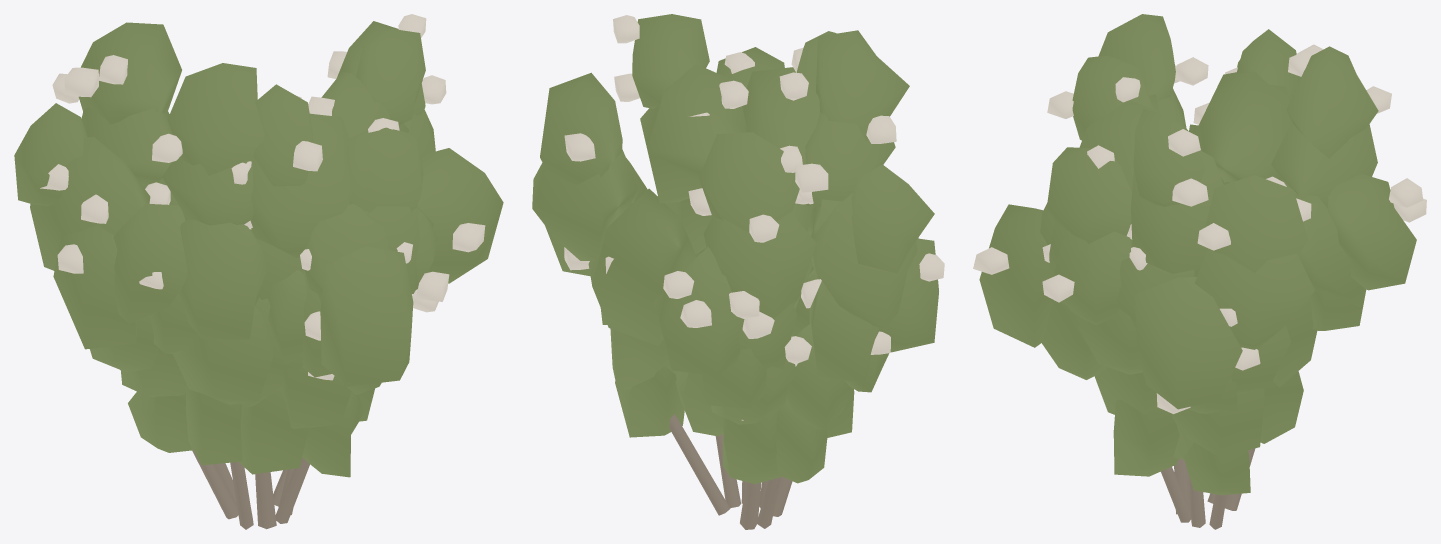
The model's file is Blender_Cliffrose_1.glb.
3 views of the same model, side by side, from view 1: azimuth 30°, elevation 25°; view 2: azimuth 150°, elevation 25°; view 3: azimuth 270°, elevation 25° (orthographic). The views are drawn at different scales.
Parts seen in each view (by area): view 1: Blender_Cliffrose_1; view 2: Blender_Cliffrose_1; view 3: Blender_Cliffrose_1.
Part boxes in pixels (left/top/right/bottom): Blender_Cliffrose_1: left=14, top=14, right=503, bottom=529; Blender_Cliffrose_1: left=532, top=14, right=944, bottom=529; Blender_Cliffrose_1: left=973, top=14, right=1426, bottom=529.
Size of the model in its own units: 2.5 by 2.71 by 2.37.
